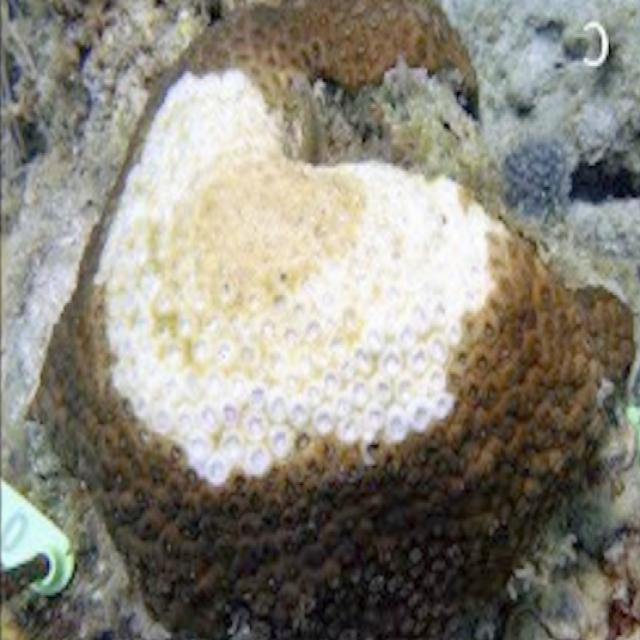Coral: (24, 0, 636, 637)
